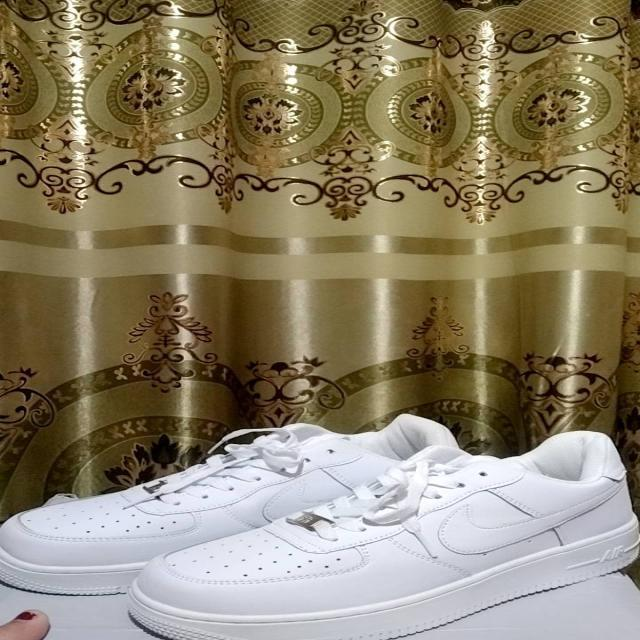nike fake air force: (118, 428, 640, 639), (0, 414, 501, 594)
